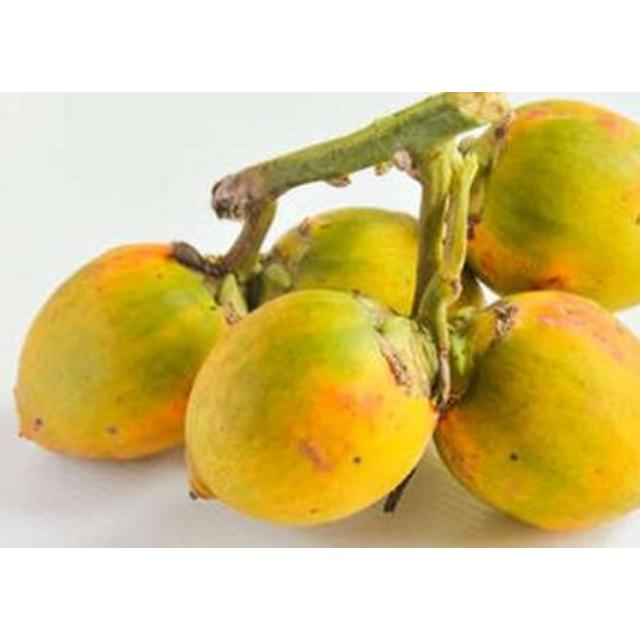good: (184, 286, 434, 526), (430, 290, 640, 532), (13, 243, 235, 462), (462, 96, 638, 310), (260, 208, 450, 322)
